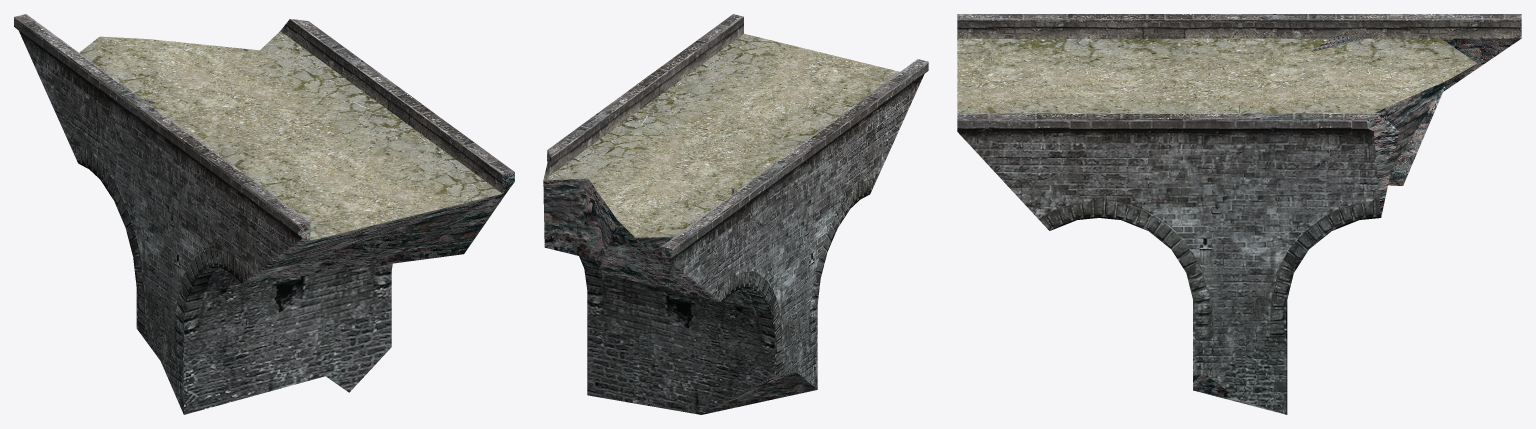
The model's file is BridgeTop2.fbx.
The picture shows the model from 3 angles, left to right: view 1: azimuth 30°, elevation 25°; view 2: azimuth 150°, elevation 25°; view 3: azimuth 270°, elevation 25°; orthographic projection. The views are drawn at different scales.
Parts seen in each view (by area): view 1: D02_trosky_01, D02_trosky_02, D02_trosky_04, D02_trosky_03, D02_trosky_05; view 2: D02_trosky_01, D02_trosky_02, D02_trosky_04, D02_trosky_03, D02_trosky_05; view 3: D02_trosky_01, D02_trosky_04, D02_trosky_02, D02_trosky_05, D02_trosky_03.
Part boxes in pixels (x1=…): D02_trosky_01: x1=14, y1=14, x2=372, y2=414; D02_trosky_02: x1=156, y1=103, x2=501, y2=296; D02_trosky_04: x1=305, y1=68, x2=514, y2=267; D02_trosky_03: x1=323, y1=285, x2=391, y2=392; D02_trosky_05: x1=306, y1=263, x2=392, y2=301; D02_trosky_01: x1=543, y1=108, x2=820, y2=414; D02_trosky_02: x1=667, y1=34, x2=928, y2=277; D02_trosky_04: x1=605, y1=14, x2=807, y2=139; D02_trosky_03: x1=587, y1=315, x2=684, y2=395; D02_trosky_05: x1=579, y1=256, x2=633, y2=332; D02_trosky_01: x1=1239, y1=14, x2=1521, y2=248; D02_trosky_04: x1=957, y1=84, x2=1265, y2=230; D02_trosky_02: x1=957, y1=14, x2=1239, y2=112; D02_trosky_05: x1=1149, y1=221, x2=1308, y2=345; D02_trosky_03: x1=1193, y1=314, x2=1287, y2=414.
Bounding box in the file's own units: 900 × 1192 × 2044.
